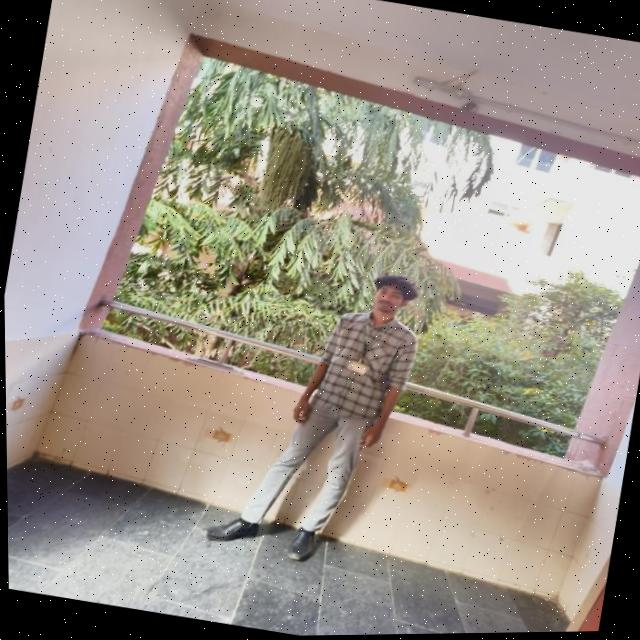id_card: (346, 320, 380, 381)
